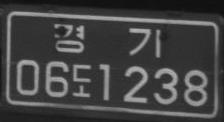0: (15, 58, 39, 95)
1: (95, 64, 116, 100)
2: (123, 65, 147, 103)
3: (153, 67, 178, 105)
6: (44, 59, 69, 97)
8: (183, 68, 208, 106)
경기_D: (54, 22, 161, 58)
도: (72, 64, 91, 98)
